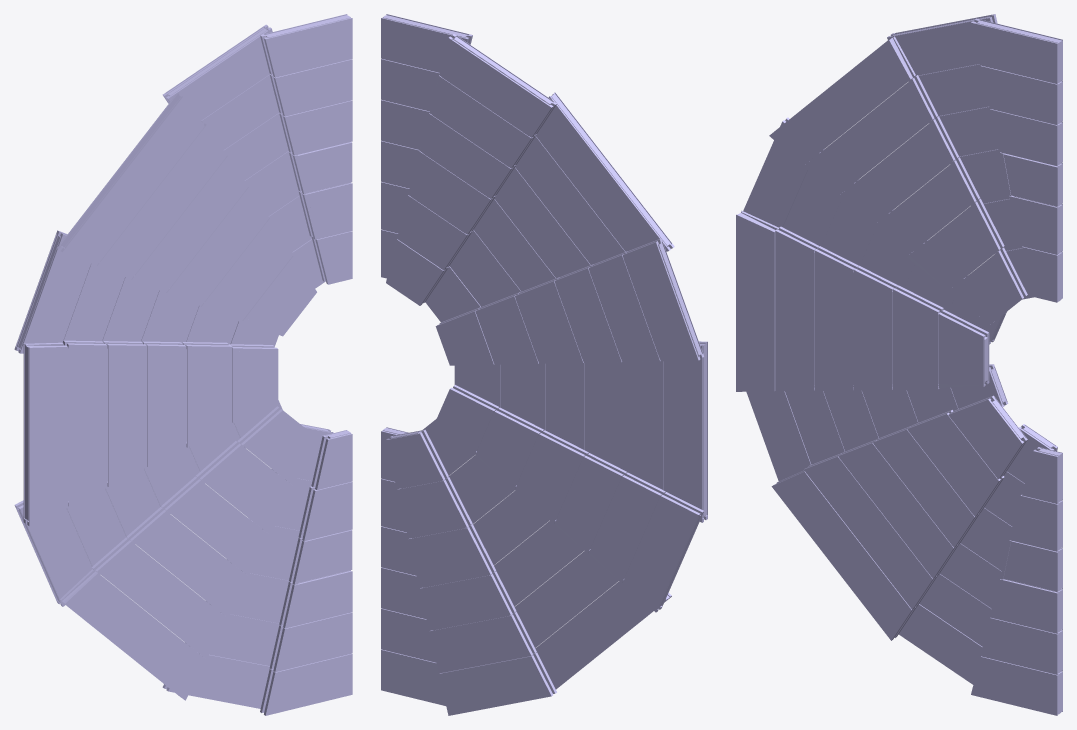
The model's file is Outer-Wheel-SideC-cut2.glb.
3 views of the same model, side by side, from view 1: azimuth 30°, elevation 25°; view 2: azimuth 150°, elevation 25°; view 3: azimuth 330°, elevation 25° (orthographic).
Parts seen in each view (by area): view 1: null; view 2: null; view 3: null.
Part boxes in pixels (x1,y1,x2,y2): null: (14,14,352,715); null: (381,14,707,715); null: (736,14,1062,715).
Size of the model in its own units: 12.19 by 24.37 by 0.7801.
